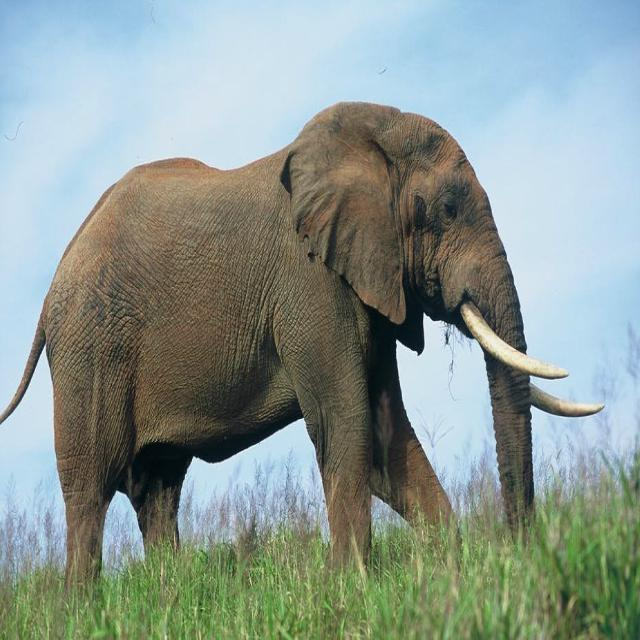elephant: (1, 102, 604, 582)
